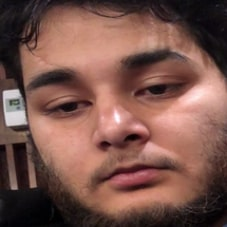drowsy: (21, 53, 205, 203)
